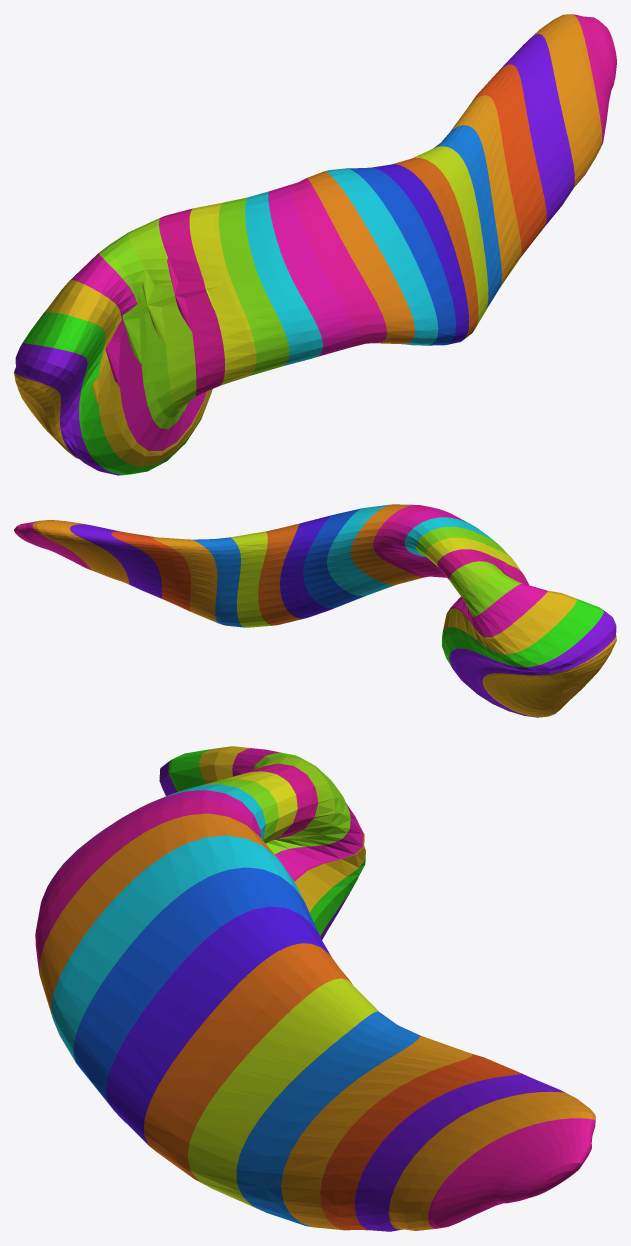
Rendered from pancreas-female-uf.glb.
3 views of the same model, one above another, from view 1: azimuth 30°, elevation 25°; view 2: azimuth 150°, elevation 25°; view 3: azimuth 270°, elevation 25° (orthographic). The views are drawn at different scales.
Visible parts, largest first — view 1: world; view 2: world; view 3: world.
Part boxes in pixels (box(x1,y1,x2,y2)): world: box(14, 14, 616, 475); world: box(14, 504, 616, 717); world: box(35, 746, 595, 1231).
Size of the model in its own units: 0.1701 by 0.0566 by 0.0815.
